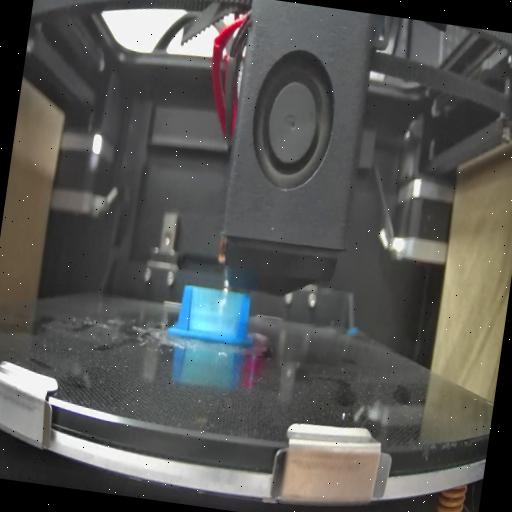stringing: (189, 286, 242, 339)
